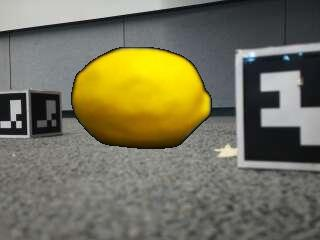lemon: (74, 47, 212, 147)
